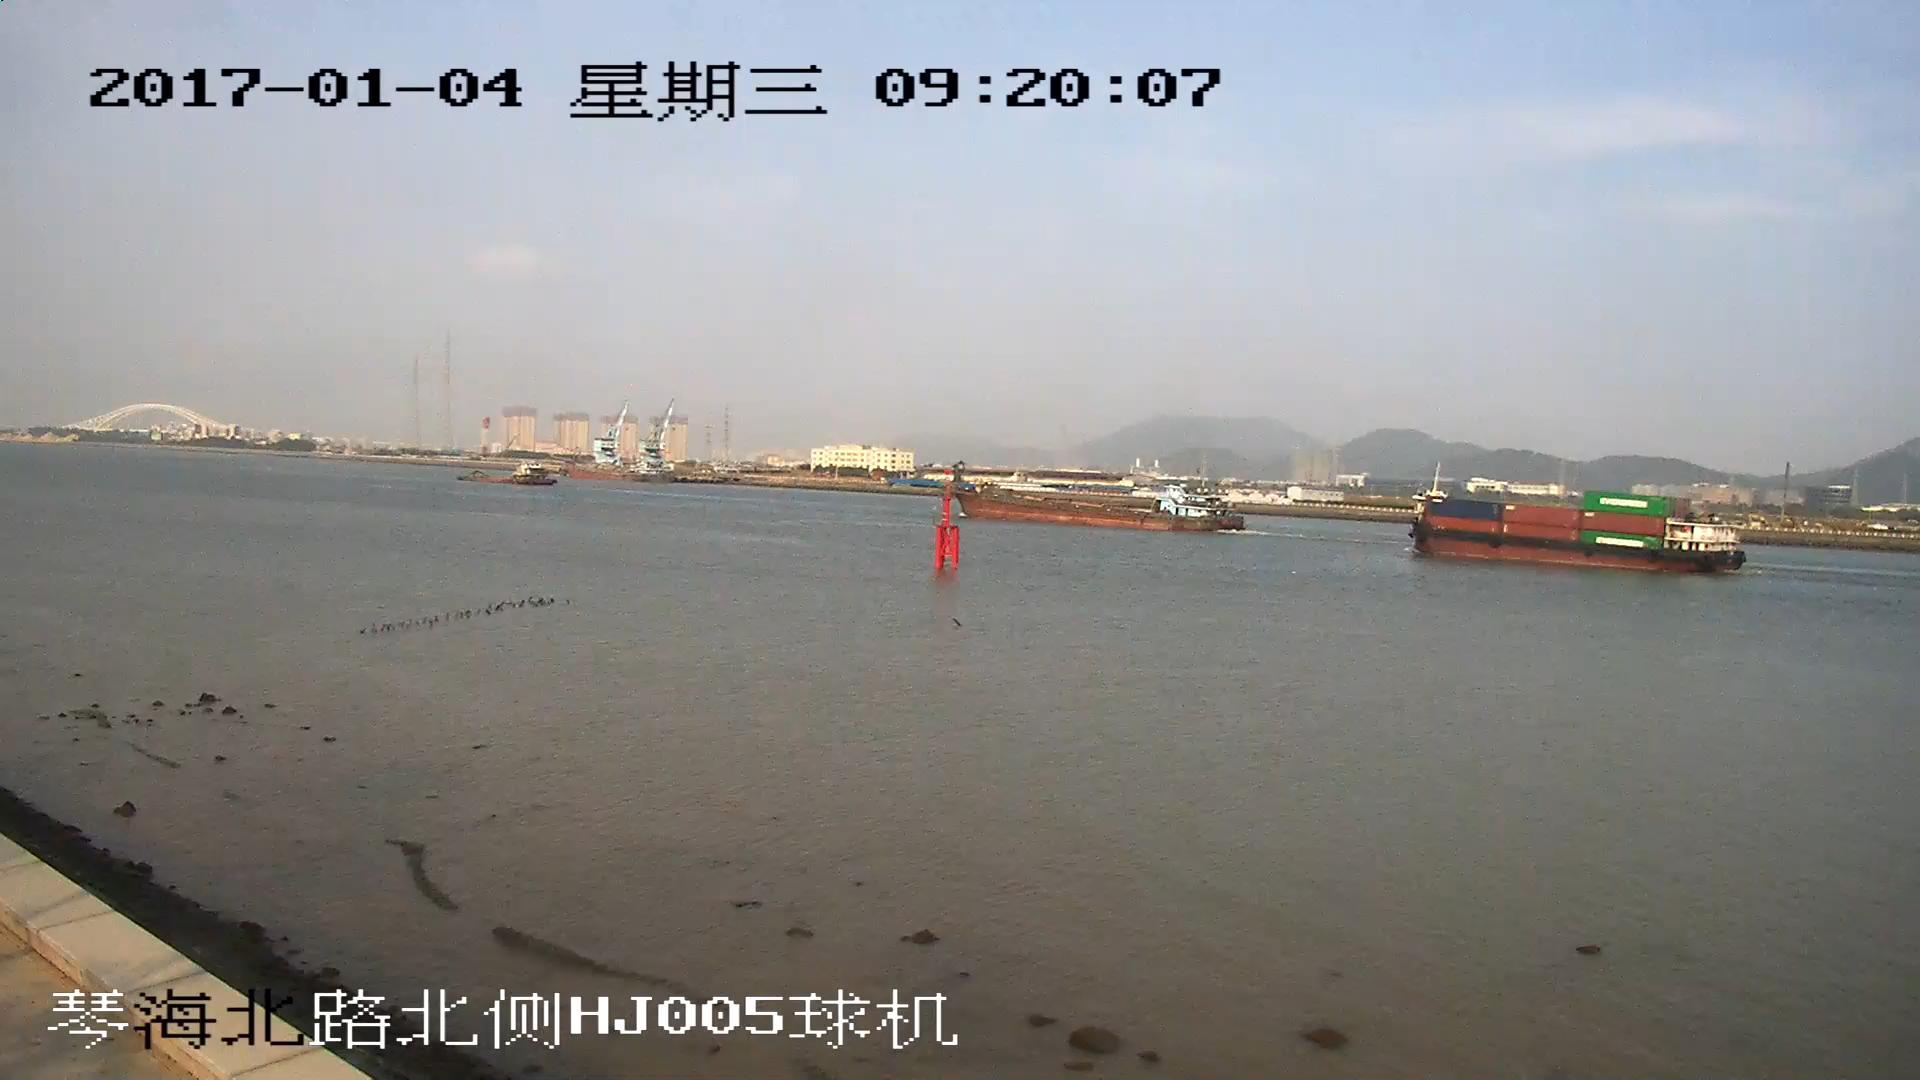Ship: (1414, 489, 1741, 572), (901, 473, 1245, 531)
